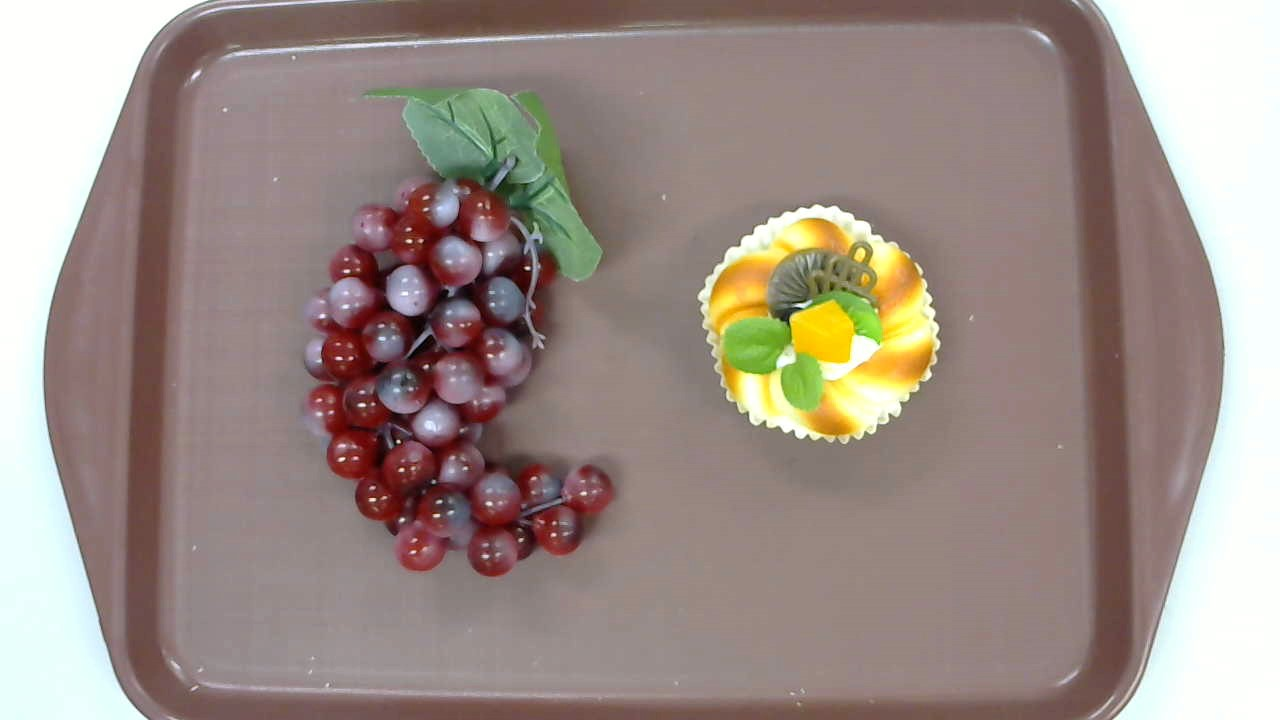fruit tart: (697, 204, 941, 446)
grape: (301, 80, 616, 578)
